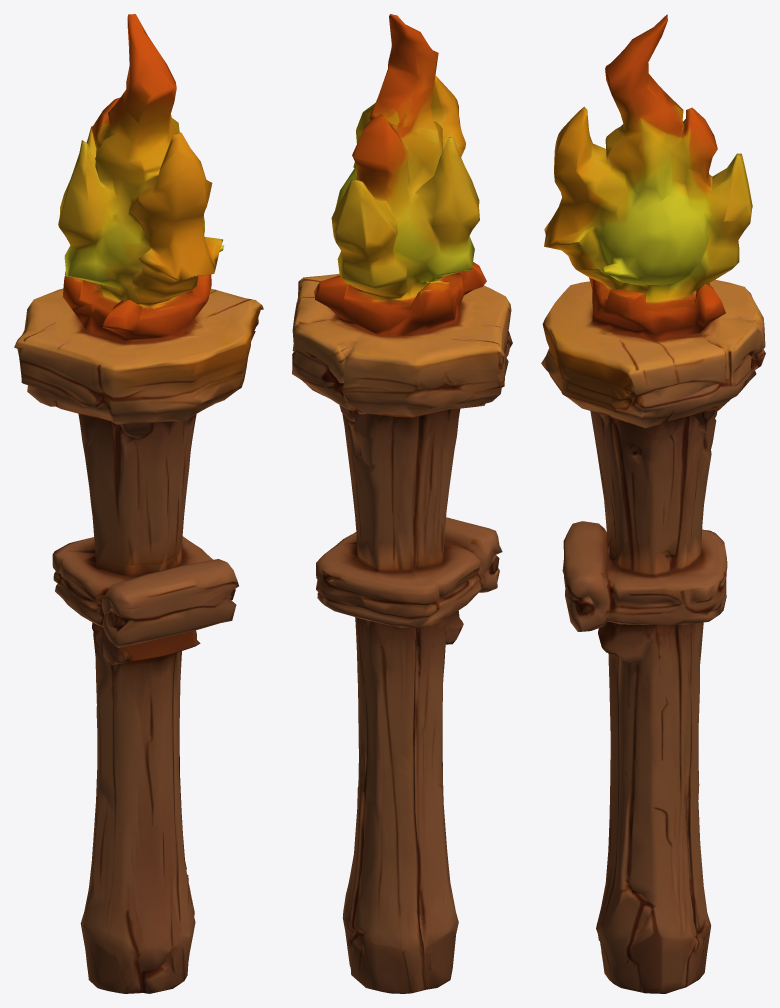
The model's file is torch_post.glb.
3 views of the same model, side by side, from view 1: azimuth 30°, elevation 25°; view 2: azimuth 150°, elevation 25°; view 3: azimuth 270°, elevation 25° (orthographic).
Parts seen in each view (by area): view 1: tripo_node_0464f1e2-8393-4dfd-82a7-4056fec0947d; view 2: tripo_node_0464f1e2-8393-4dfd-82a7-4056fec0947d; view 3: tripo_node_0464f1e2-8393-4dfd-82a7-4056fec0947d.
Boxes of the visible parts, left/top/right/bottom form: tripo_node_0464f1e2-8393-4dfd-82a7-4056fec0947d: left=14, top=14, right=263, bottom=993; tripo_node_0464f1e2-8393-4dfd-82a7-4056fec0947d: left=292, top=14, right=512, bottom=993; tripo_node_0464f1e2-8393-4dfd-82a7-4056fec0947d: left=541, top=14, right=765, bottom=993.
Bounding box in the file's own units: 0.2479 × 1 × 0.2126.
Materials: 1 (1 with a texture image).
